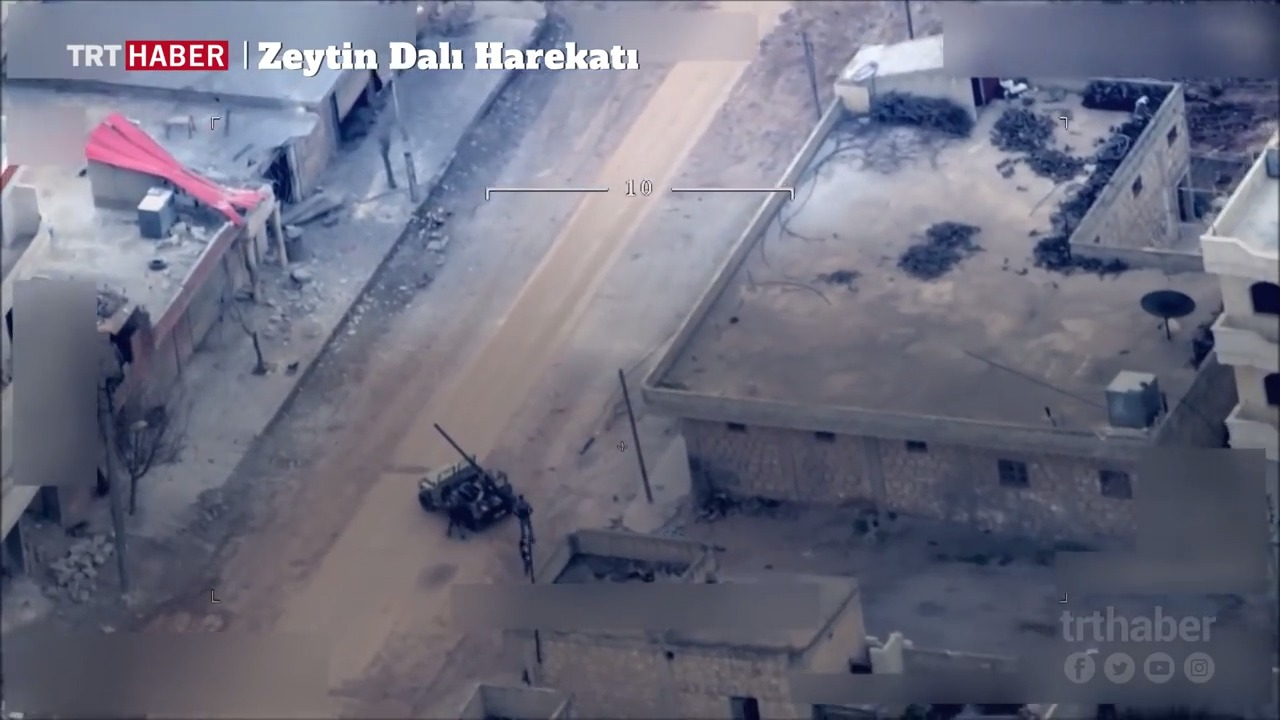arac: (409, 423, 514, 526)
insan: (511, 494, 539, 532), (444, 491, 465, 537), (516, 531, 536, 573)
